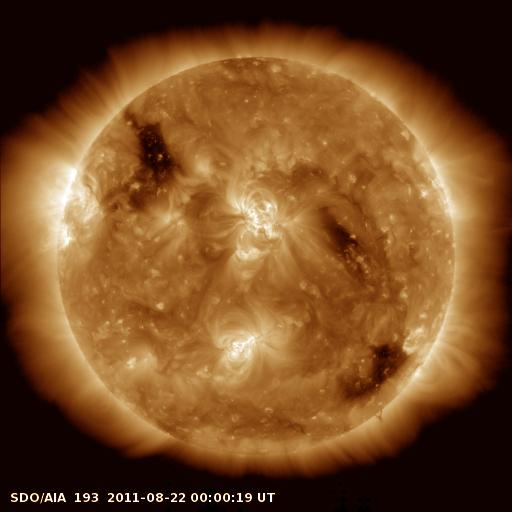coronal_hole: (129, 117, 186, 201), (339, 341, 409, 399), (323, 208, 367, 260)
